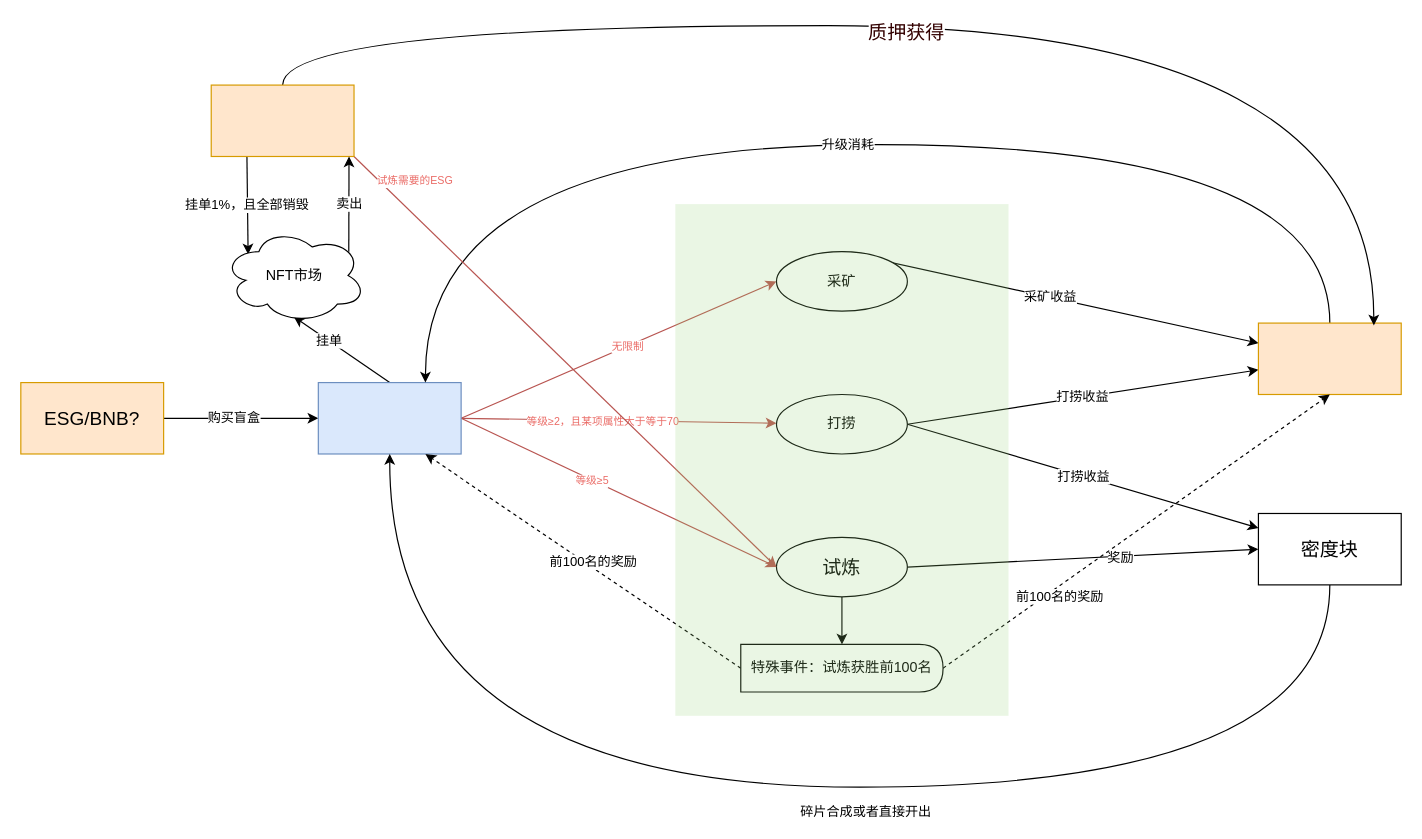
The diagram is 1422 pixels wide and 839 high, and some of its shapes have lost their labels. Each missing label, with the centre of its shape:
"ESG" belongs at pixel 282 120.
"H-lite" belongs at pixel 1329 358.
"第一章 主要活动" belongs at pixel 841 459.
"飞船" belongs at pixel 389 417.
